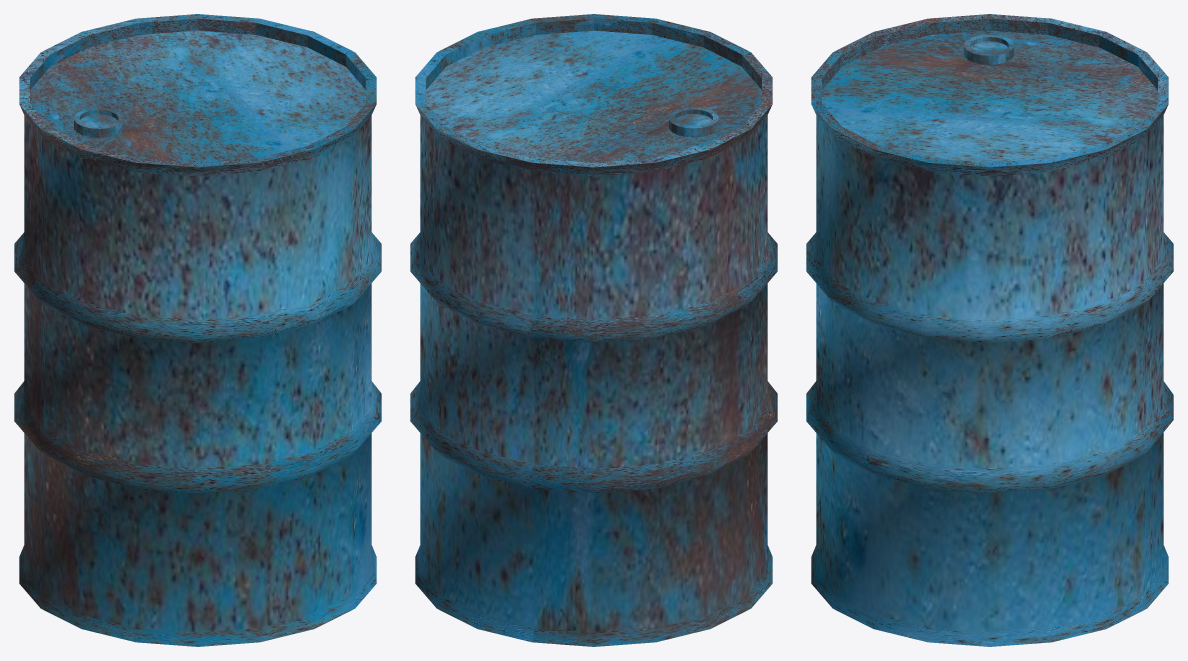
The model's file is barrel.FBX.
3 renders of one model, left to right at view 1: azimuth 30°, elevation 25°; view 2: azimuth 150°, elevation 25°; view 3: azimuth 270°, elevation 25°, orthographic.
Parts seen in each view (by area): view 1: Cylinder001; view 2: Cylinder001; view 3: Cylinder001.
Boxes of the visible parts, x1,y1,x2,y2 form: Cylinder001: (14,14,381,646); Cylinder001: (410,14,777,646); Cylinder001: (806,14,1173,646).
Bounding box in the file's own units: 106 × 150 × 104.
